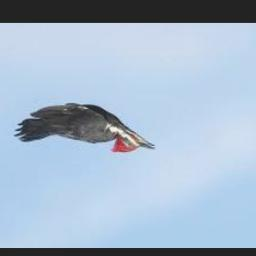Woodpecker: (12, 105, 154, 153)
